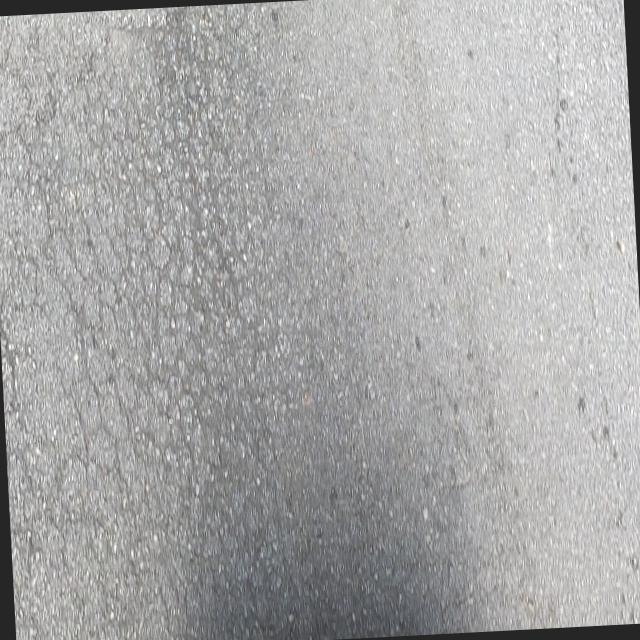Retak-Buaya: (0, 5, 287, 640)
